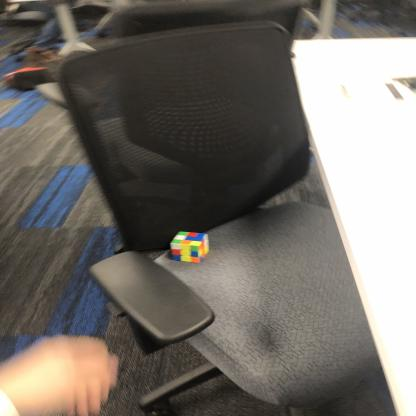UnsolvedCube: (172, 230, 209, 262)
